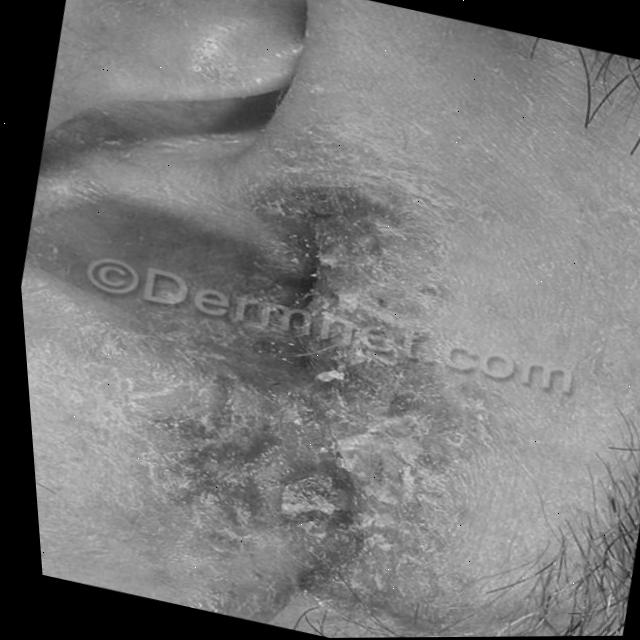Eczema: (154, 157, 504, 548)
